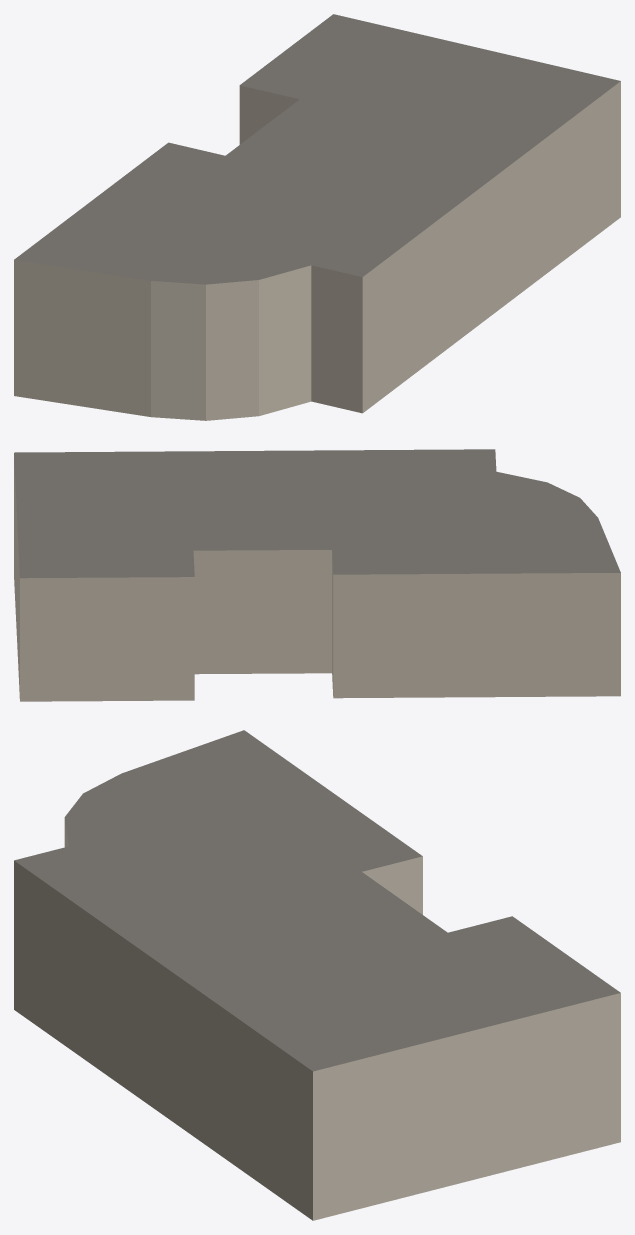
3 renders of one model, top to bottom at view 1: azimuth 30°, elevation 25°; view 2: azimuth 150°, elevation 25°; view 3: azimuth 270°, elevation 25°, orthographic. The views are drawn at different scales.
Parts seen in each view (by area): view 1: HP-w369237997; view 2: HP-w369237997; view 3: HP-w369237997.
Part boxes in pixels (box(x1,y1,x2,y2)): HP-w369237997: box(14, 14, 620, 420); HP-w369237997: box(14, 449, 620, 701); HP-w369237997: box(14, 730, 620, 1220).
Bounding box in the file's own units: 73.54 × 15 × 55.25.
